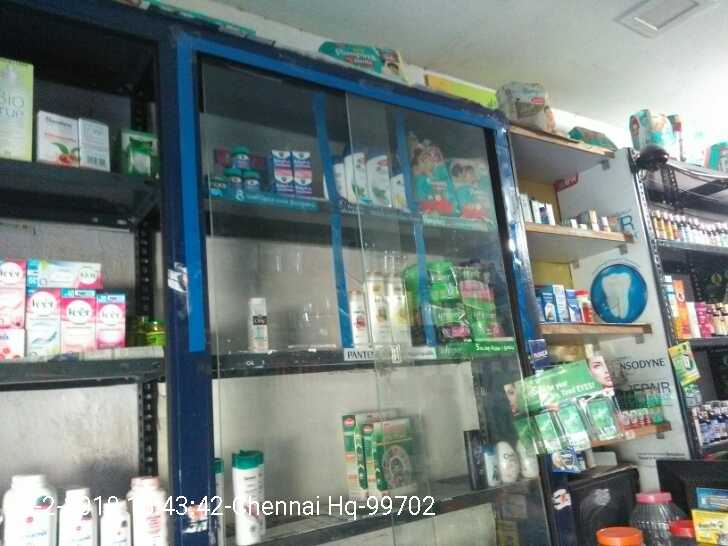vicks: (223, 145, 321, 194)
